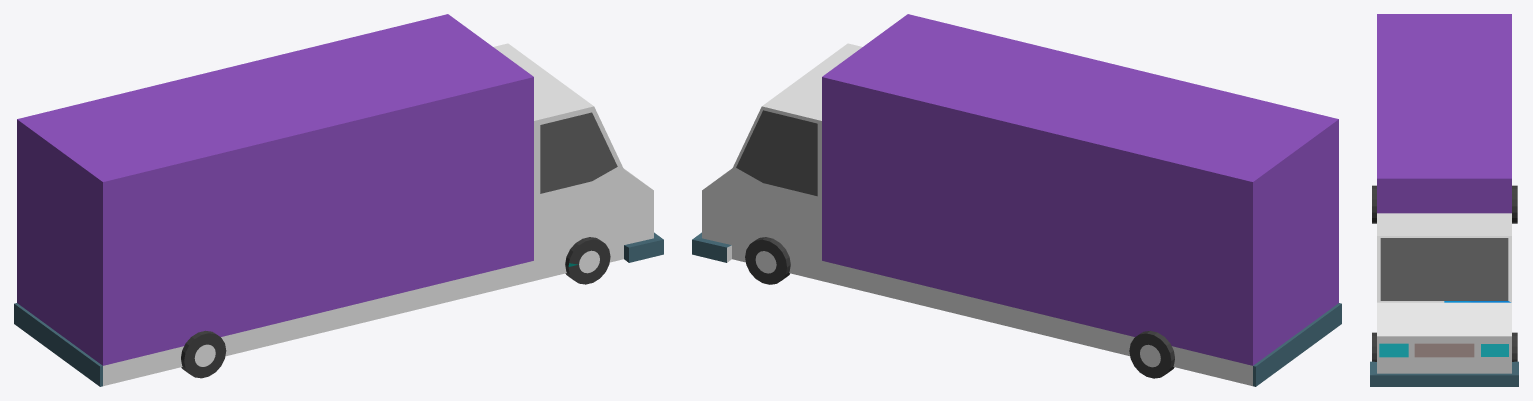
File: Kamionce3x1Orange.fbx
3 views of the same model, side by side, from view 1: azimuth 30°, elevation 25°; view 2: azimuth 150°, elevation 25°; view 3: azimuth 270°, elevation 25° (orthographic). The views are drawn at different scales.
Parts seen in each view (by area): view 1: Car_08_4; view 2: Car_08_4; view 3: Car_08_4.
Part boxes in pixels (x1,y1,x2,y2): Car_08_4: [14, 14, 663, 386]; Car_08_4: [692, 14, 1341, 386]; Car_08_4: [1370, 14, 1518, 386].
Bounding box in the file's own units: 2.98 × 1.1 × 0.8755.
1 material, 1 textured.
